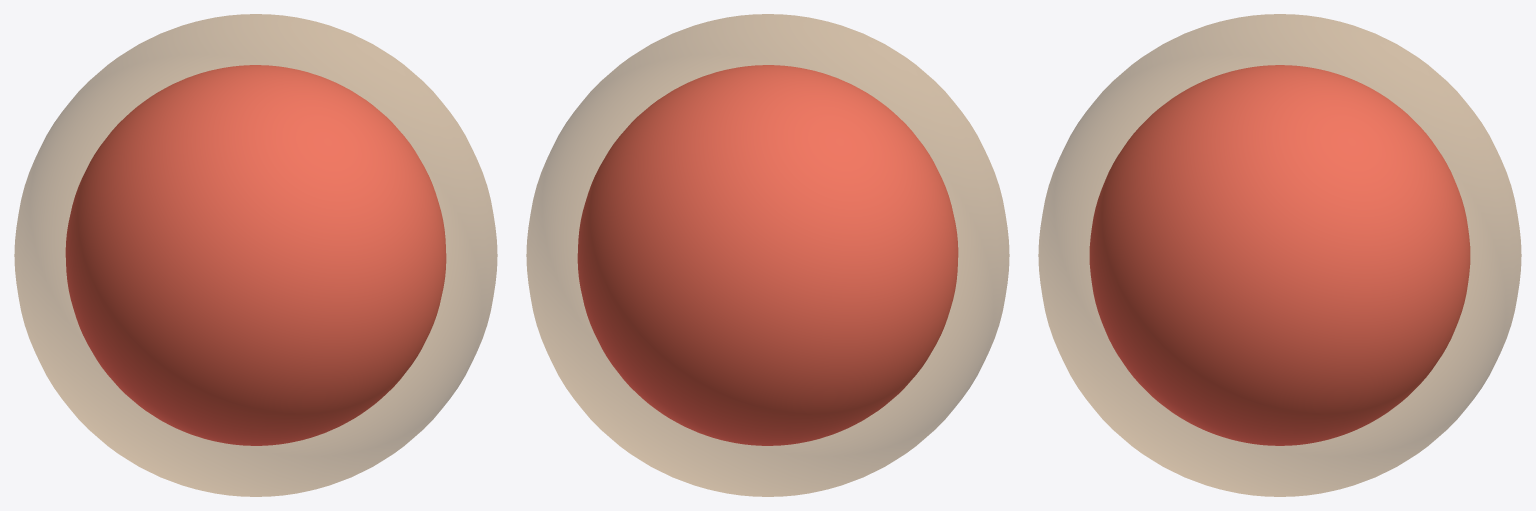
The model's file is space-p1-red-giant.glb.
3 renders of one model, left to right at view 1: azimuth 30°, elevation 25°; view 2: azimuth 150°, elevation 25°; view 3: azimuth 270°, elevation 25°, orthographic.
Parts seen in each view (by area): view 1: transparent-loose-outer-atmosphere, expanded-red-giant-cool-outer-envelope; view 2: transparent-loose-outer-atmosphere, expanded-red-giant-cool-outer-envelope; view 3: transparent-loose-outer-atmosphere, expanded-red-giant-cool-outer-envelope.
Part boxes in pixels (left/top/right/bottom): transparent-loose-outer-atmosphere: left=14, top=14, right=497, bottom=496; expanded-red-giant-cool-outer-envelope: left=65, top=65, right=446, bottom=445; transparent-loose-outer-atmosphere: left=526, top=14, right=1009, bottom=496; expanded-red-giant-cool-outer-envelope: left=577, top=65, right=958, bottom=445; transparent-loose-outer-atmosphere: left=1038, top=14, right=1521, bottom=496; expanded-red-giant-cool-outer-envelope: left=1089, top=65, right=1470, bottom=445.
Size of what is drawn, in the model's own units: 2.08 by 2.08 by 2.08.
